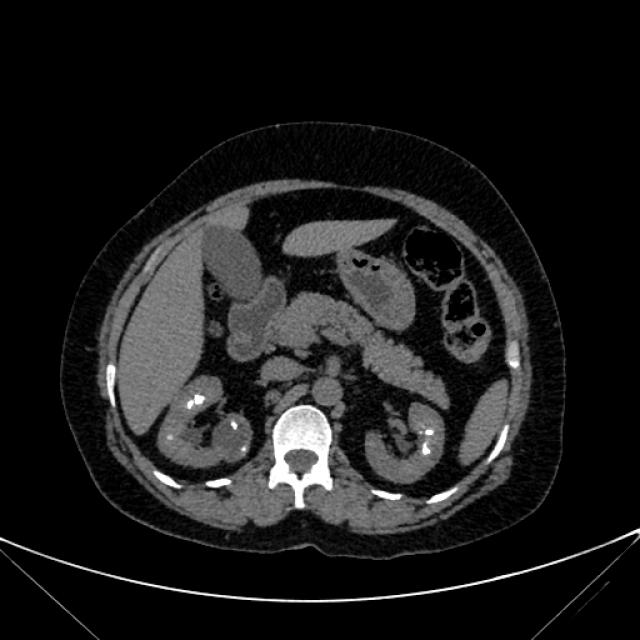kidney: (162, 388, 249, 464), (374, 412, 439, 476)
stone: (422, 445, 430, 454), (196, 396, 203, 404), (186, 402, 193, 408), (168, 435, 174, 440), (427, 430, 432, 435), (233, 422, 236, 429), (242, 447, 245, 453), (420, 431, 422, 434)
